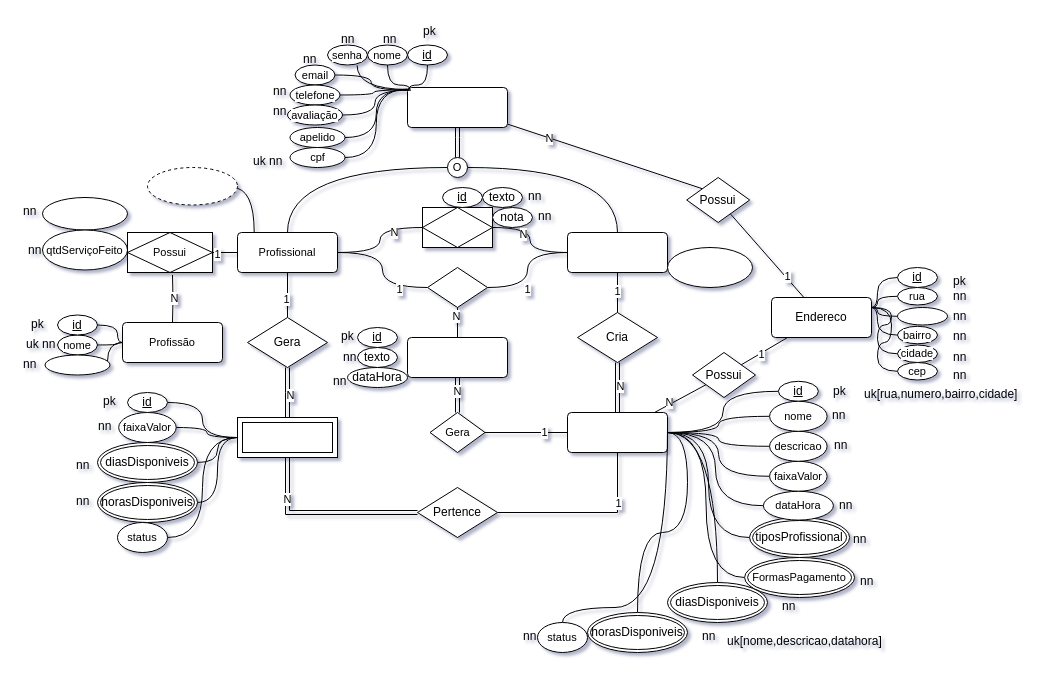
Some shapes in this 1057 by 676 pixel diagram are drawn without their labels. The shapes that lost their labels are listed below. From the top down, each one's centre as x and y in pixels, then its label:
At (x=457, y=107): "Usuário".
At (x=192, y=185): "totalServicoFeito".
At (x=85, y=213): "inicioAtuação".
At (x=457, y=227): "Avalia".
At (x=617, y=252): "Cliente".
At (x=709, y=267): "qtdServicoCriado".
At (x=457, y=287): "Envia".
At (x=922, y=315): "numero".
At (x=77, y=364): "descrição".
At (x=457, y=357): "Notificação".
At (x=287, y=437): "Proposta".
At (x=617, y=432): "Serviço".
